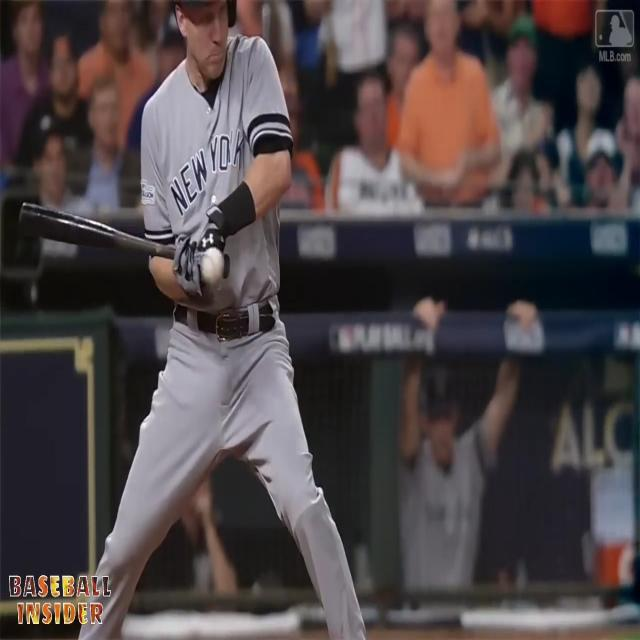baseball: (200, 246, 223, 284)
